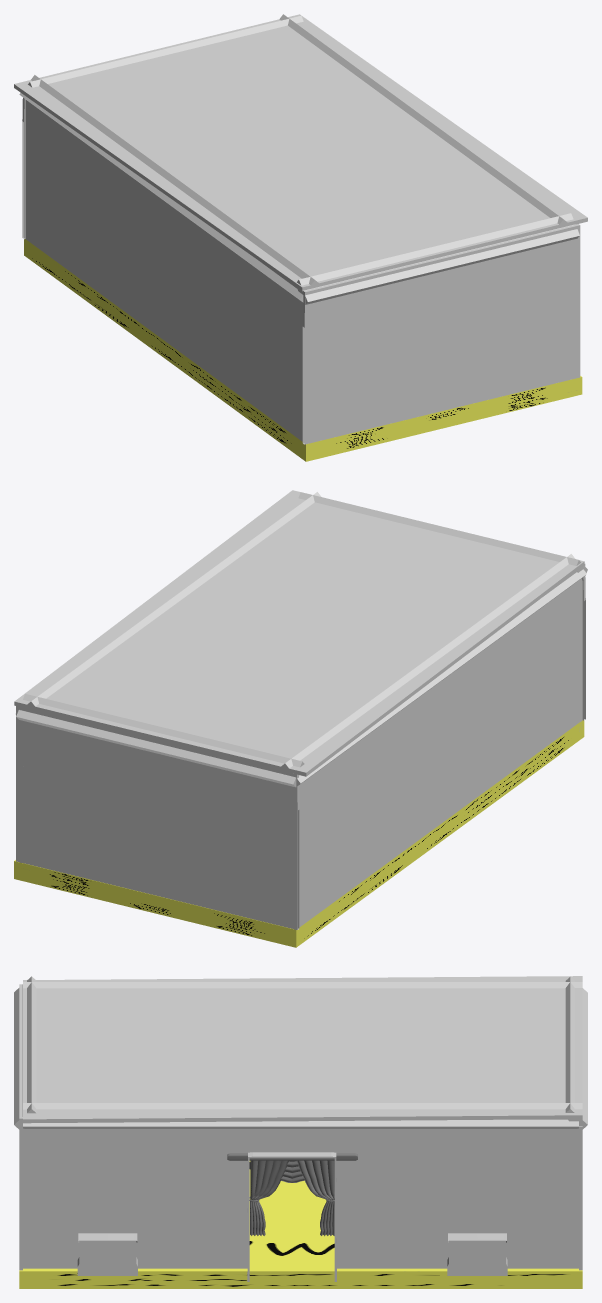
File: PartyRoom.fbx
The picture shows the model from 3 angles, top to bottom: view 1: azimuth 30°, elevation 25°; view 2: azimuth 150°, elevation 25°; view 3: azimuth 270°, elevation 25°; orthographic projection. The views are drawn at different scales.
Visible parts, largest first — view 1: Roof, WindowWall, FireplaceWall_001, Floor, RoofEdge_001, RoofEdge_002, RoofEdge, RoofEdge2; view 2: Roof, WindowWall, FireplaceWall_001, Floor, RoofEdge2, RoofEdge_002, RoofEdge, RoofEdge_001; view 3: Roof, FireplaceWall, Floor, RoofEdge, RoofEdge_002, Curtain, Fireplace, Fireplace2, RoofEdge_001, RoofEdge2, WindowWall, Doorway (+1 smaller).
Boxes of the visible parts, x1,y1,x2,y2 form: Roof: (14,14,587,291); WindowWall: (22,98,580,444); FireplaceWall_001: (24,100,304,442); Floor: (24,239,582,461); RoofEdge_001: (297,213,579,304); RoofEdge_002: (19,75,321,302); RoofEdge: (279,14,570,228); RoofEdge2: (25,15,303,100); Roof: (14,490,584,776); WindowWall: (16,564,585,929); FireplaceWall_001: (292,571,582,929); Floor: (14,720,584,947); RoofEdge2: (16,694,304,787); RoofEdge_002: (278,554,586,789); RoofEdge: (16,492,321,723); RoofEdge_001: (298,492,587,580); Roof: (23,976,582,1123); FireplaceWall: (23,1119,578,1268); Floor: (19,1161,582,1288); RoofEdge: (23,1103,582,1128); RoofEdge_002: (23,982,582,988); Curtain: (249,1160,334,1236); Fireplace: (77,1233,137,1275); Fireplace2: (447,1233,507,1275); RoofEdge_001: (14,976,36,1131); RoofEdge2: (565,977,587,1131); WindowWall: (19,984,582,1270); Doorway: (247,1152,336,1281).
Bounding box in the file's own units: 1085 × 624 × 1826.
